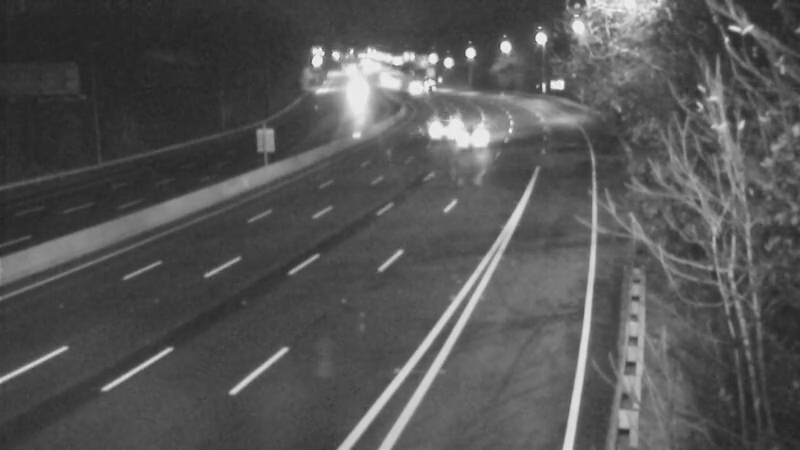vehicle: (403, 59, 453, 109), (385, 61, 435, 111), (416, 101, 466, 151), (452, 111, 502, 161), (330, 70, 380, 120)
